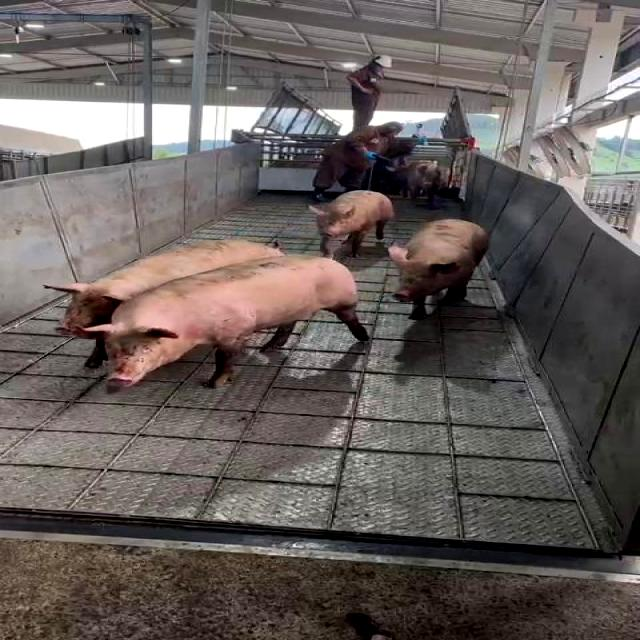pig: (85, 258, 367, 387), (390, 220, 489, 317), (312, 190, 393, 255), (85, 340, 105, 367)
